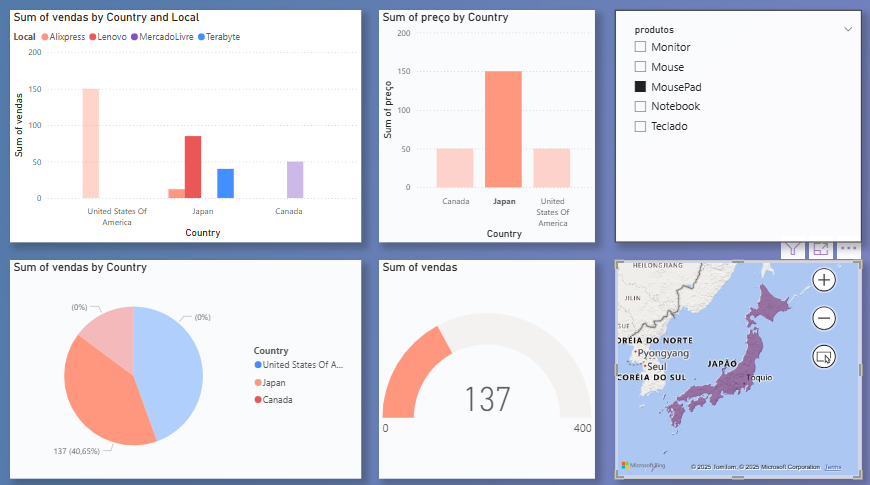

The page's visual inventory and layout, read from the dashboard file:
{"tool":"powerbi","page":{"name":"Página 1","canvas":[1280,720],"ordinal":0},"visuals":[{"type":"filledMap","fields":{"Category":["Tabela1.Country"]},"box":[901.5,386.3,361.5,320.5],"z":0},{"type":"clusteredColumnChart","fields":{"Category":["Tabela1.Country"],"Series":["Tabela1.Local"],"Y":["Sum(Tabela1.vendas)"]},"box":[16.1,20.5,513.7,339.5],"z":1000},{"type":"slicer","fields":{"Values":["Tabela1.produtos"]},"box":[901.5,20.5,361.5,339.5],"z":2000},{"type":"columnChart","fields":{"Category":["Tabela1.Country","Tabela1.produtos"],"Y":["Sum(Tabela1.preço)"]},"box":[556.1,20.5,316.1,339.5],"z":3000},{"type":"gauge","fields":{"Y":["Sum(Tabela1.vendas)"]},"box":[556.1,386.3,316.1,320.5],"z":4000},{"type":"pieChart","fields":{"Category":["Tabela1.Country"],"Y":["Sum(Tabela1.vendas)"]},"box":[16.1,386.3,513.7,320.5],"z":5000}]}

Visuals, with their boxes in screenshot pixels (x1, y1, x2, y2), scaled from the page's 1280x720 canvas onto the 870x485 screenshot:
filledMap - Tabela1.Country: {"left": 613, "top": 260, "right": 858, "bottom": 476}
clusteredColumnChart - Tabela1.Country x Tabela1.Local: {"left": 11, "top": 14, "right": 360, "bottom": 243}
slicer - Tabela1.produtos: {"left": 613, "top": 14, "right": 858, "bottom": 243}
columnChart - Tabela1.Country x Tabela1.produtos: {"left": 378, "top": 14, "right": 593, "bottom": 243}
gauge - Sum(Tabela1.vendas): {"left": 378, "top": 260, "right": 593, "bottom": 476}
pieChart - Tabela1.Country x Sum(Tabela1.vendas): {"left": 11, "top": 260, "right": 360, "bottom": 476}
